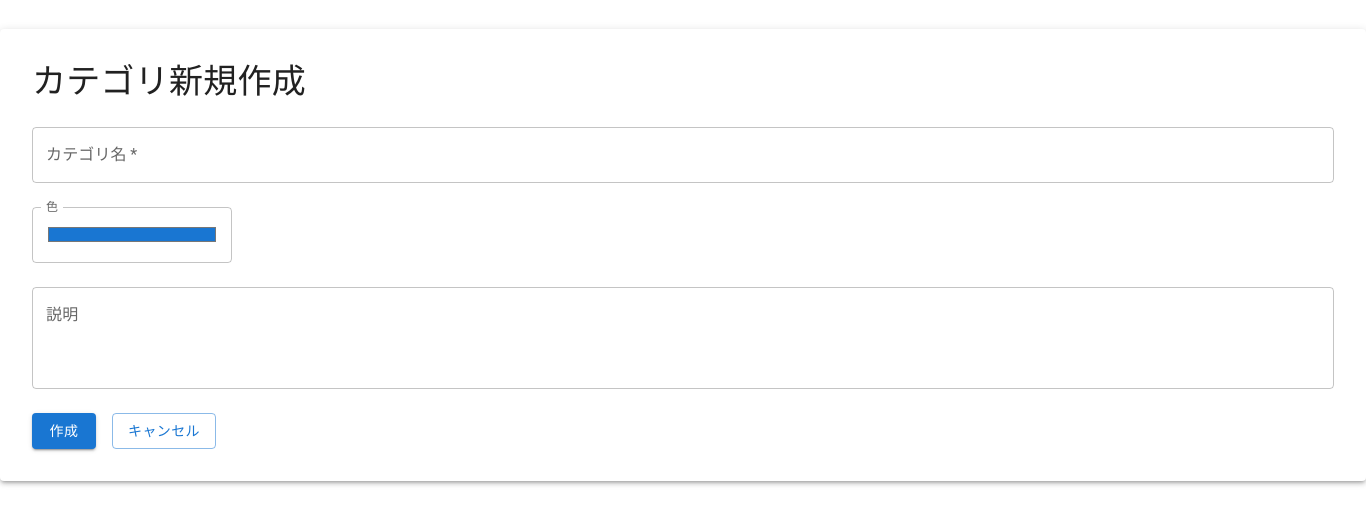
Test: CategoryForm › shows validation error for duplicate name
The width and height of the screenshot is (1366, 515).
In the field labelled "カテゴリ名 *": (683, 155) [32,127,1334,183], type "仕事"
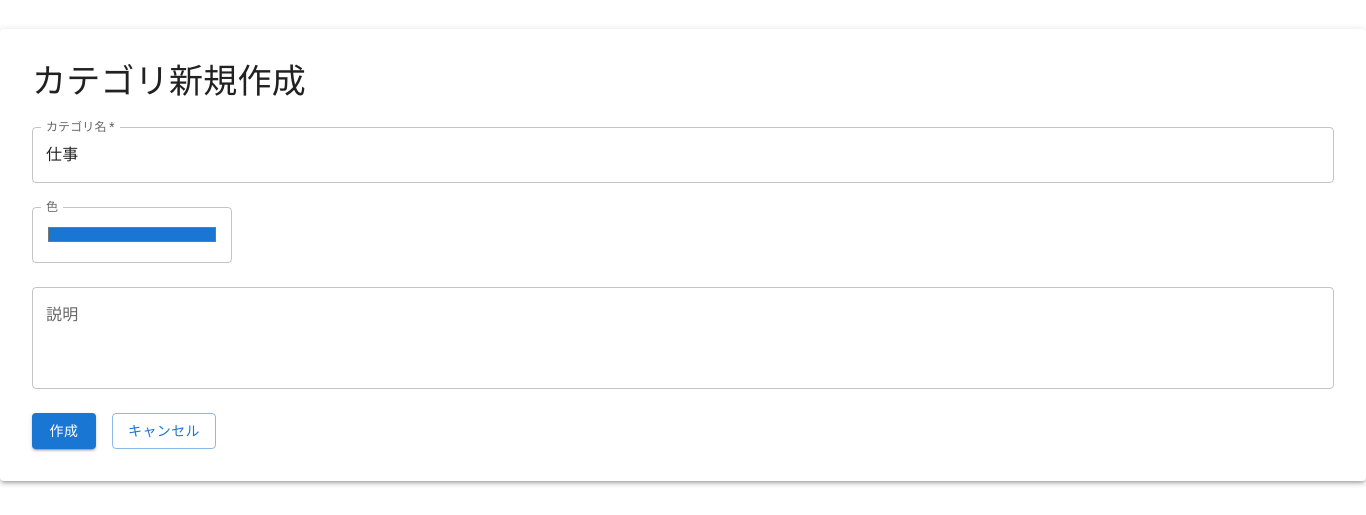
Click the button "作成": (64, 431) [32,413,96,449]
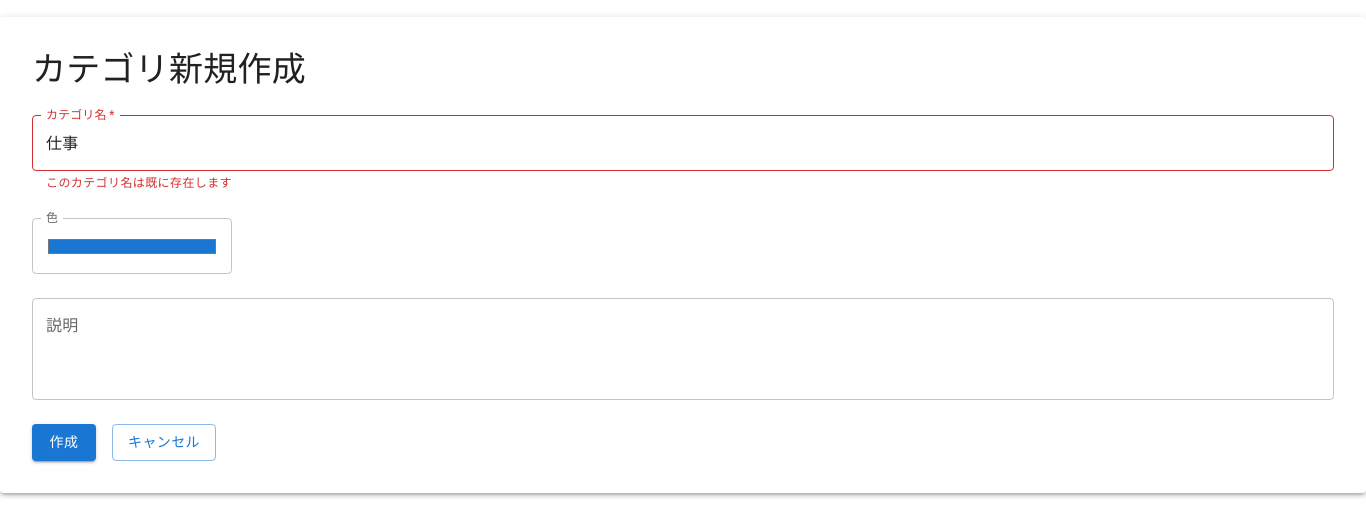
Result: the text "このカテゴリ名は既に存在します" is shown at [46,176,232,190]
